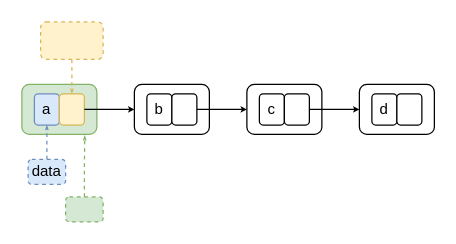
This 456x244 diagram has some shape labels left out. Each missing label, with the centre of its shape:
next pointer: the point at 71,40
node: the point at 83,209
